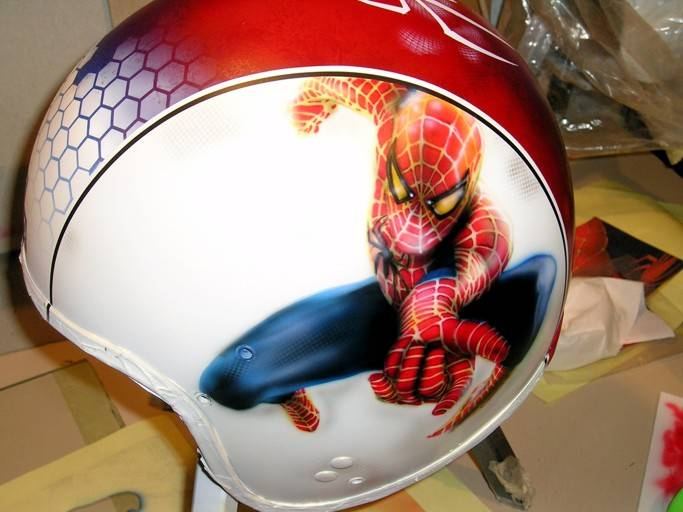helmet: (33, 14, 560, 466)
